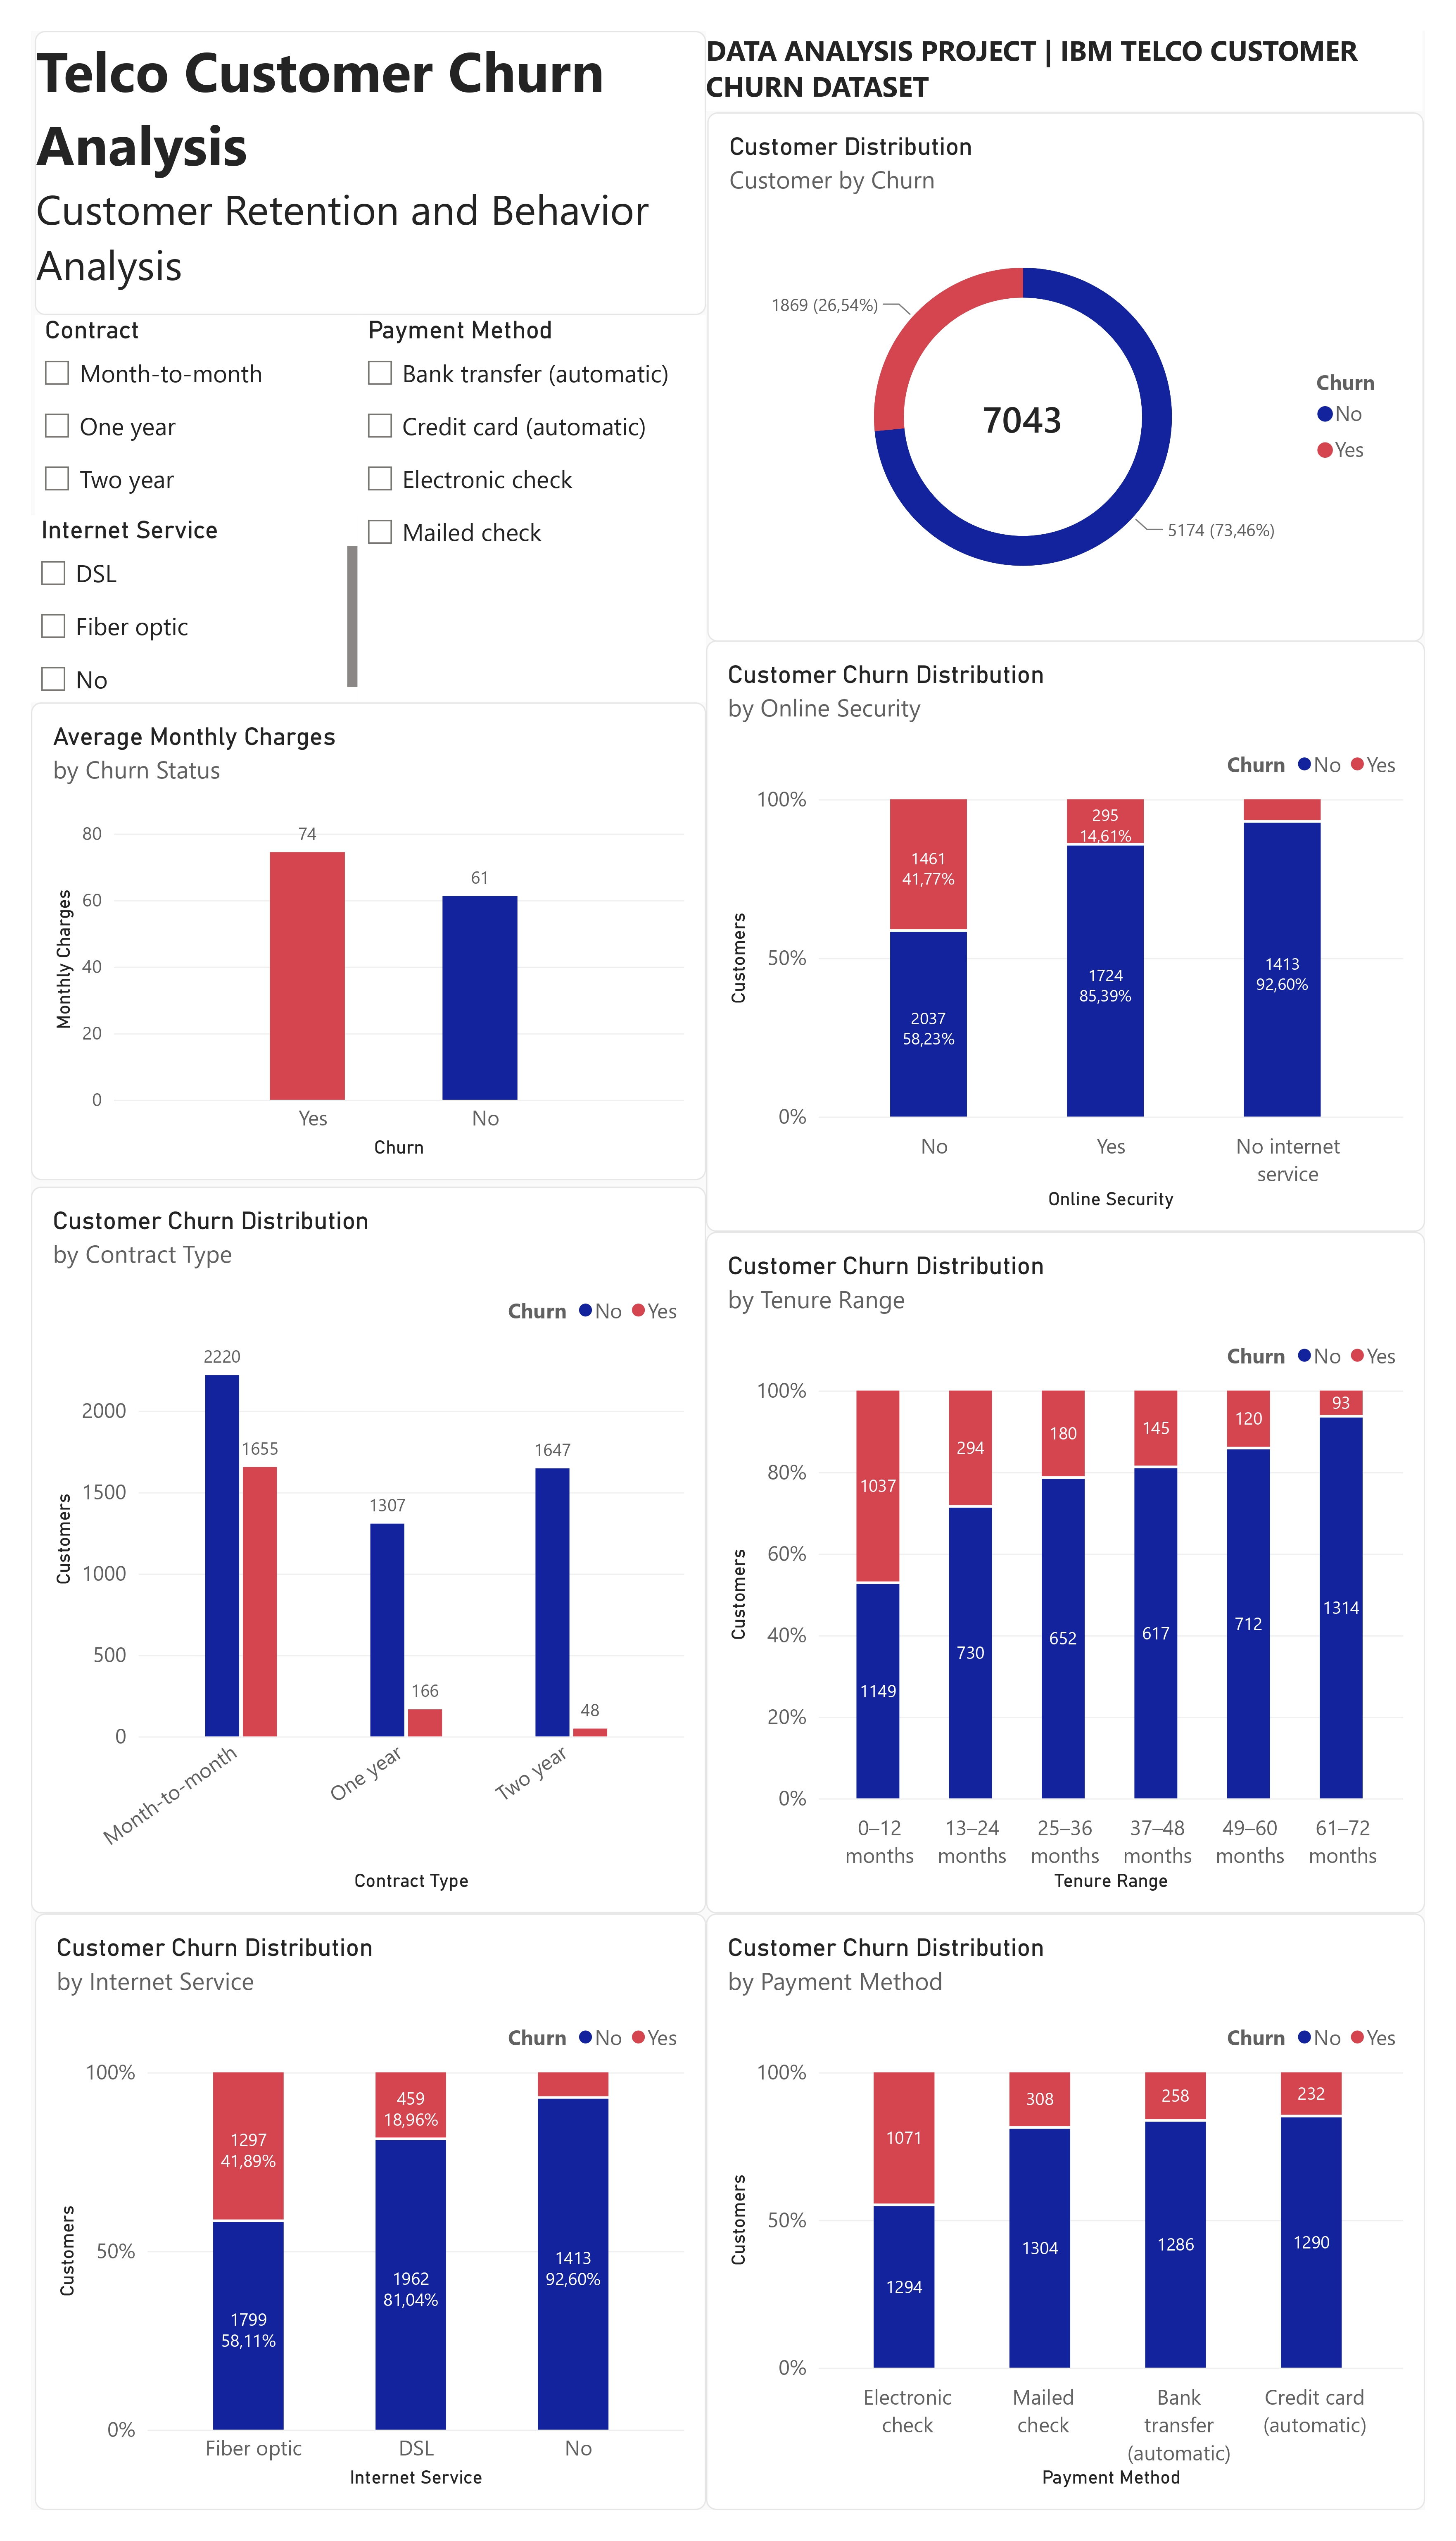

Layout of this report page (visuals, bound fields, positions):
{"tool":"powerbi","page":{"name":"Page 1","canvas":[1080,1920],"ordinal":0},"visuals":[{"type":"clusteredColumnChart","title":"Customer Churn Distribution","fields":{"Category":["public customer_churn_cleaned.Contract"],"Series":["public customer_churn_cleaned.churn"],"Y":["CountNonNull(public customer_churn_cleaned.customerID)"]},"box":[0,895,523.3,563.3],"z":0},{"type":"donutChart","title":"Customer Distribution","fields":{"Category":["public customer_churn_cleaned.churn"],"Y":["CountNonNull(public customer_churn_cleaned.customerID)"]},"box":[523.8,62.5,555,410],"z":1000},{"type":"hundredPercentStackedColumnChart","title":"Customer Churn Distribution","fields":{"Category":["public customer_churn_cleaned.Tenure Range"],"Series":["public customer_churn_cleaned.churn"],"Y":["CountNonNull(public customer_churn_cleaned.customerID)"]},"box":[523.3,930,556.7,528.3],"z":2000},{"type":"hundredPercentStackedColumnChart","title":"Customer Churn Distribution","fields":{"Category":["public customer_churn_cleaned.InternetService"],"Series":["public customer_churn_cleaned.churn"],"Y":["CountNonNull(public customer_churn_cleaned.customerID)"]},"box":[3.3,1458.3,520,461.7],"z":3000},{"type":"hundredPercentStackedColumnChart","title":"Customer Churn Distribution","fields":{"Category":["public customer_churn_cleaned.PaymentMethod"],"Series":["public customer_churn_cleaned.churn"],"Y":["CountNonNull(public customer_churn_cleaned.customerID)"]},"box":[523.3,1458.3,556.7,461.7],"z":4000},{"type":"clusteredColumnChart","title":"Average Monthly Charges","fields":{"Category":["public customer_churn_cleaned.churn"],"Y":["Avg(public customer_churn_cleaned.MonthlyCharges)"]},"box":[0,520,523.3,370],"z":5000},{"type":"slicer","title":"Filter by","fields":{"Values":["public customer_churn_cleaned.Contract"]},"box":[2.5,220,255,155],"z":6000},{"type":"slicer","fields":{"Values":["public customer_churn_cleaned.InternetService"]},"box":[0,375,253.3,145],"z":7000},{"type":"slicer","fields":{"Values":["public customer_churn_cleaned.PaymentMethod"]},"box":[253.3,220,270,300],"z":8000},{"type":"hundredPercentStackedColumnChart","title":"Customer Churn Distribution","fields":{"Category":["public customer_churn_cleaned.OnlineSecurity"],"Series":["public customer_churn_cleaned.churn"],"Y":["CountNonNull(public customer_churn_cleaned.customerID)"]},"box":[523.3,471.7,556.7,458.3],"z":9000},{"type":"textbox","box":[3.3,0,520,220],"z":10000},{"type":"textbox","box":[523,0,555,62],"z":11000}]}

Visuals, with their boxes on the page's 1080x1920 design canvas (x1, y1, x2, y2). These are canvas units, not pixel positions in the 1456x2541 screenshot, which may show the page scaled, cropped or inside an application window:
"Customer Churn Distribution" clusteredColumnChart: locate(0, 895, 523, 1458)
"Customer Distribution" donutChart: locate(524, 62, 1079, 472)
"Customer Churn Distribution" hundredPercentStackedColumnChart: locate(523, 930, 1080, 1458)
"Customer Churn Distribution" hundredPercentStackedColumnChart: locate(3, 1458, 523, 1920)
"Customer Churn Distribution" hundredPercentStackedColumnChart: locate(523, 1458, 1080, 1920)
"Average Monthly Charges" clusteredColumnChart: locate(0, 520, 523, 890)
"Filter by" slicer: locate(2, 220, 258, 375)
slicer - public customer_churn_cleaned.InternetService: locate(0, 375, 253, 520)
slicer - public customer_churn_cleaned.PaymentMethod: locate(253, 220, 523, 520)
"Customer Churn Distribution" hundredPercentStackedColumnChart: locate(523, 472, 1080, 930)
textbox: locate(3, 0, 523, 220)
textbox: locate(523, 0, 1078, 62)
